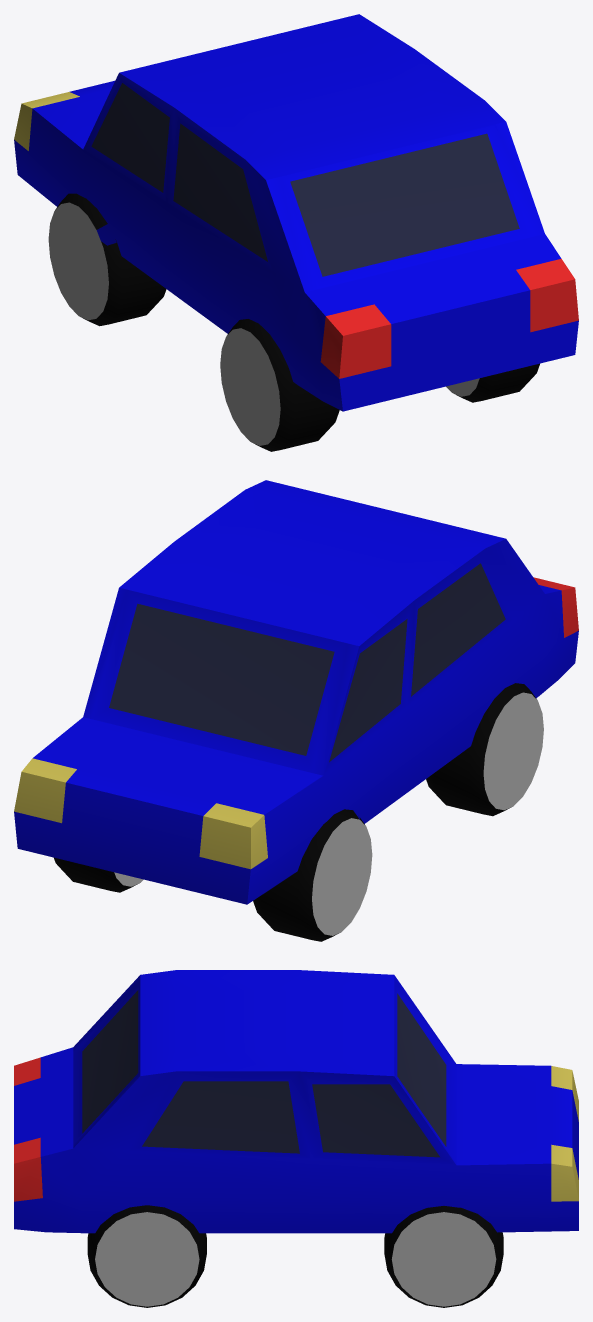
The model's file is Car_Blue.fbx.
3 views of the same model, one above another, from view 1: azimuth 30°, elevation 25°; view 2: azimuth 150°, elevation 25°; view 3: azimuth 270°, elevation 25° (orthographic). The views are drawn at different scales.
Visible parts, largest first — view 1: pCube1, pCylinder4, pCylinder3, pCylinder1; view 2: pCube1, pCylinder3, pCylinder4, pCylinder2; view 3: pCube1, pCylinder1, pCylinder2.
Part boxes in pixels (x1,y1,x2,y2): pCube1: (14, 14, 578, 411); pCylinder4: (220, 319, 339, 451); pCylinder3: (48, 193, 166, 326); pCylinder1: (446, 363, 539, 402); pCube1: (14, 480, 578, 904); pCylinder3: (253, 809, 372, 941); pCylinder4: (426, 683, 543, 816); pCylinder2: (54, 857, 143, 892); pCube1: (14, 970, 578, 1233); pCylinder1: (87, 1205, 206, 1307); pCylinder2: (384, 1206, 503, 1307).
Bounding box in the file's own units: 3.11 × 3.12 × 6.72.
